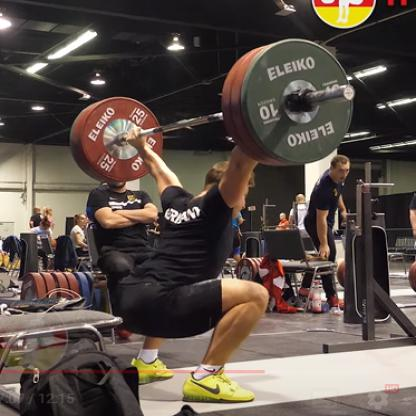Barbell: (217, 32, 359, 170)
